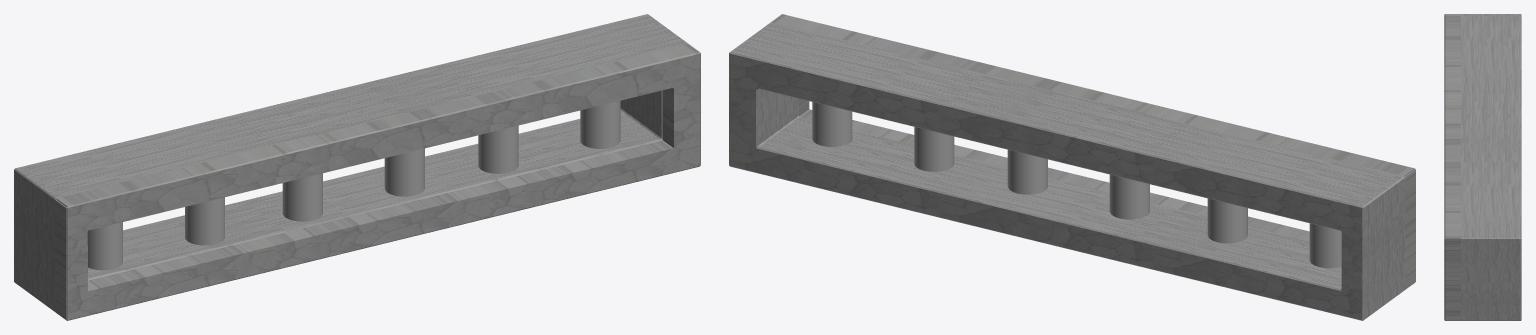
Rendered from Ceiling_Bars.fbx.
3 renders of one model, left to right at view 1: azimuth 30°, elevation 25°; view 2: azimuth 150°, elevation 25°; view 3: azimuth 270°, elevation 25°, orthographic. The views are drawn at different scales.
Visible parts, largest first — view 1: pCube371, pCylinder7, pCylinder8, pCylinder5, pCylinder6, pCylinder4, pCylinder3; view 2: pCube371, pCylinder6, pCylinder5, pCylinder4, pCylinder8, pCylinder7, pCylinder3; view 3: pCube371.
Boxes of the visible parts, x1,y1,x2,y2 form: pCube371: (14,14,700,320); pCylinder7: (580,100,620,148); pCylinder8: (478,125,518,173); pCylinder5: (384,148,424,196); pCylinder6: (282,173,322,221); pCylinder4: (185,197,224,245); pCylinder3: (87,222,122,270); pCube371: (729,14,1415,320); pCylinder6: (1109,174,1149,219); pCylinder5: (1007,149,1047,194); pCylinder4: (1207,198,1247,243); pCylinder8: (914,127,954,171); pCylinder7: (812,102,852,146); pCylinder3: (1309,223,1341,268); pCube371: (1444,14,1521,320).
Size of the model in its own units: 3234 by 558 by 470.
